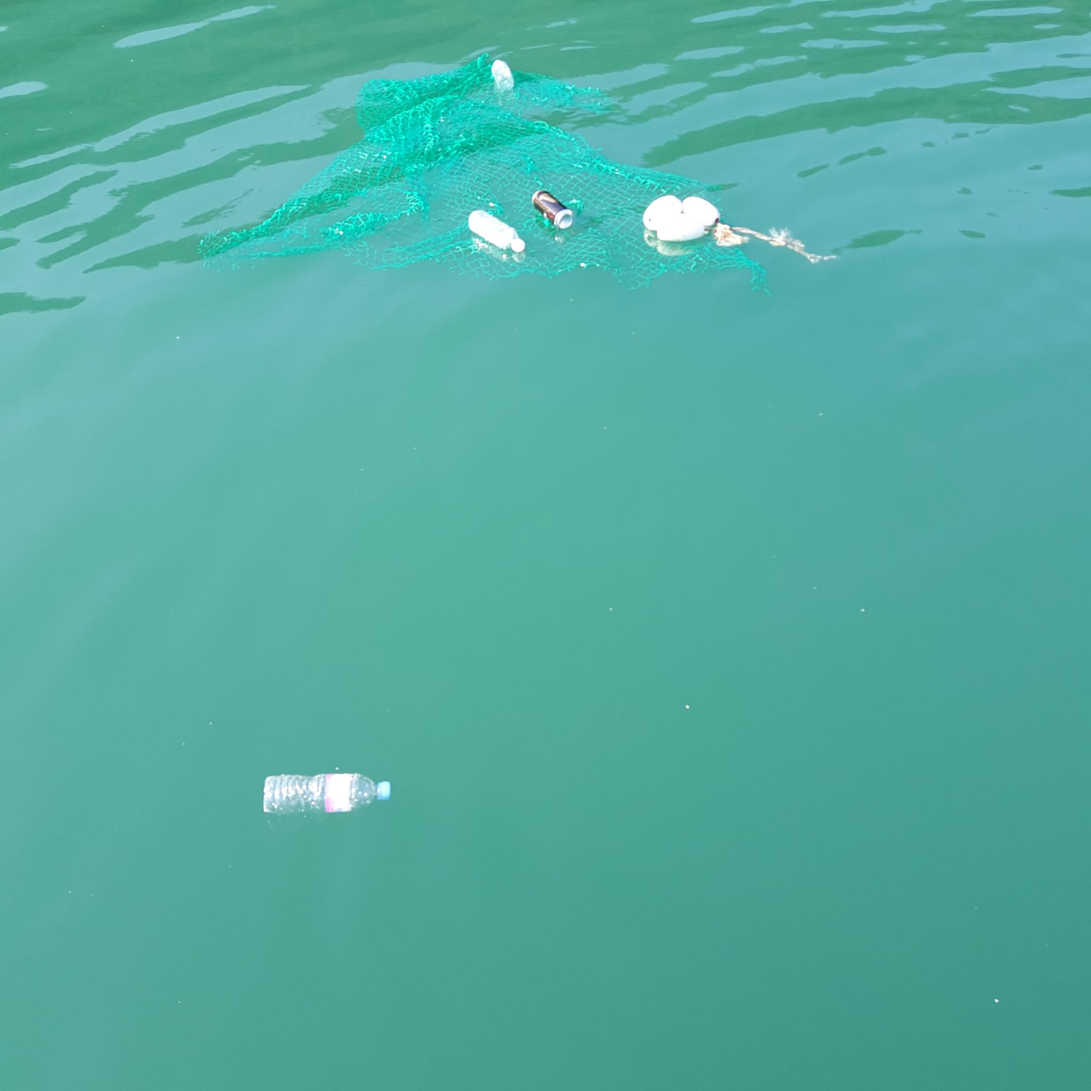sampah_terapung: (197, 54, 775, 298), (705, 221, 838, 264), (264, 774, 391, 815), (469, 210, 525, 253), (533, 190, 574, 229), (644, 196, 683, 231), (657, 214, 705, 242), (683, 197, 721, 226), (492, 61, 515, 91)
